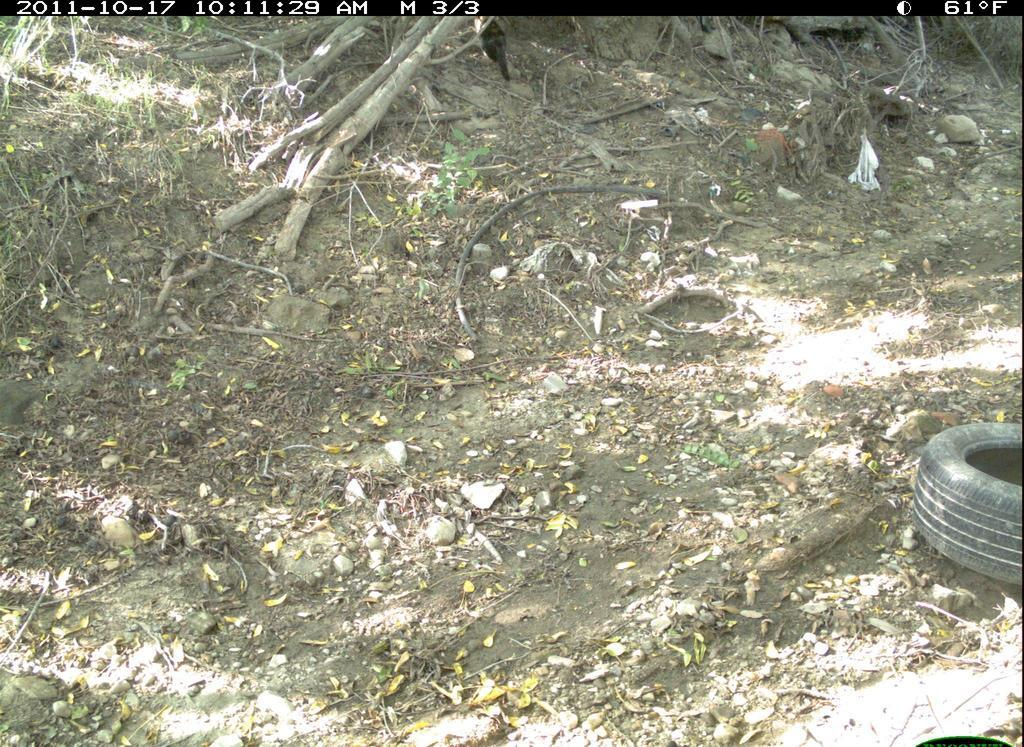cat: (469, 20, 519, 86)
